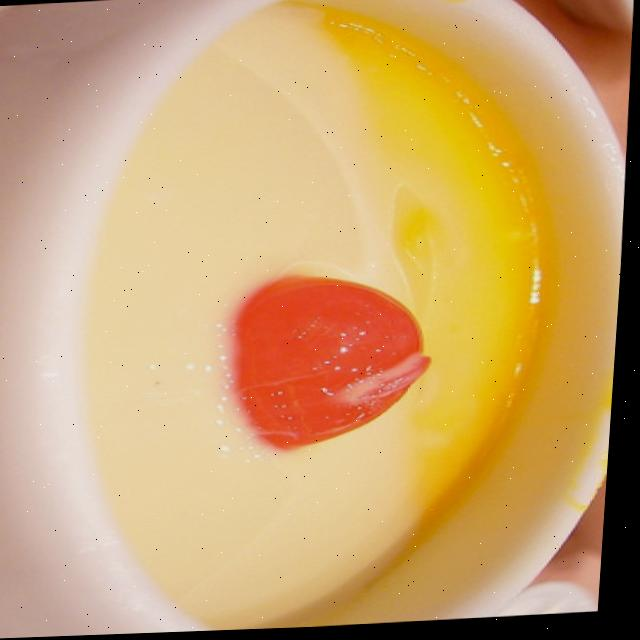蛋糕甜品: (58, 0, 608, 618)
